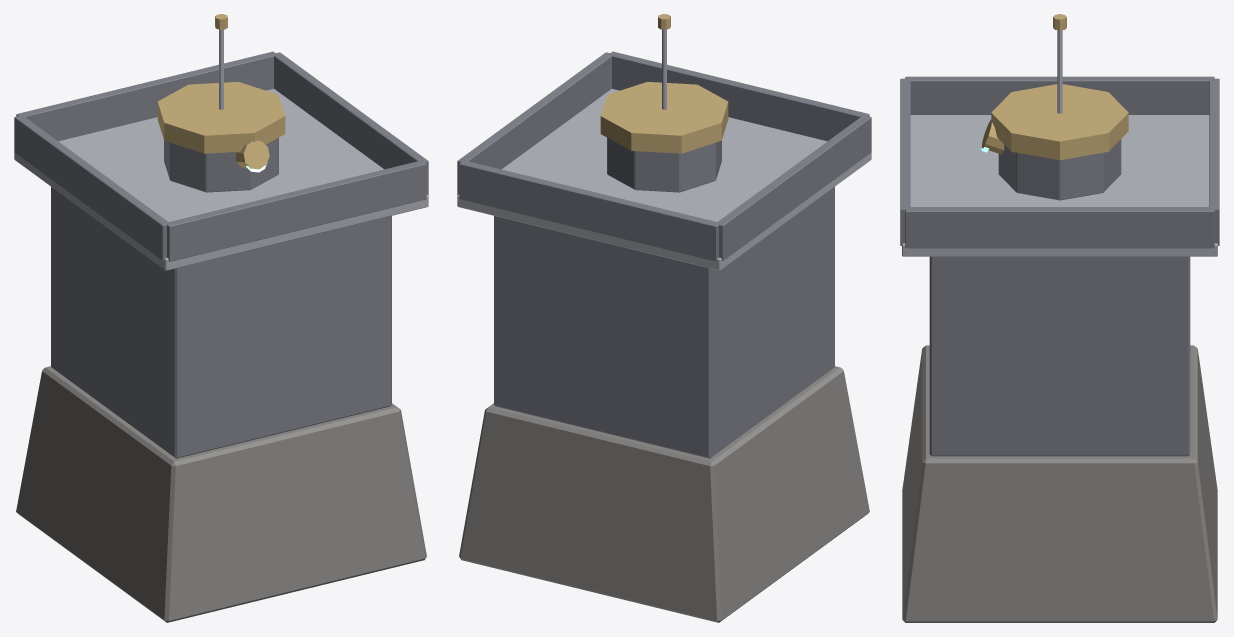
File: gearforge_wall_tower.glb
3 views of the same model, side by side, from view 1: azimuth 30°, elevation 25°; view 2: azimuth 150°, elevation 25°; view 3: azimuth 270°, elevation 25° (orthographic). The views are drawn at different scales.
Visible parts, largest first — view 1: gearforge_wall_tower_lod0; view 2: gearforge_wall_tower_lod0; view 3: gearforge_wall_tower_lod0.
Part boxes in pixels (box(x1,y1,x2,y2)): gearforge_wall_tower_lod0: box(14, 14, 428, 622); gearforge_wall_tower_lod0: box(457, 14, 871, 622); gearforge_wall_tower_lod0: box(900, 14, 1219, 622).
Size of the model in its own units: 9.3 by 17.38 by 9.3.
